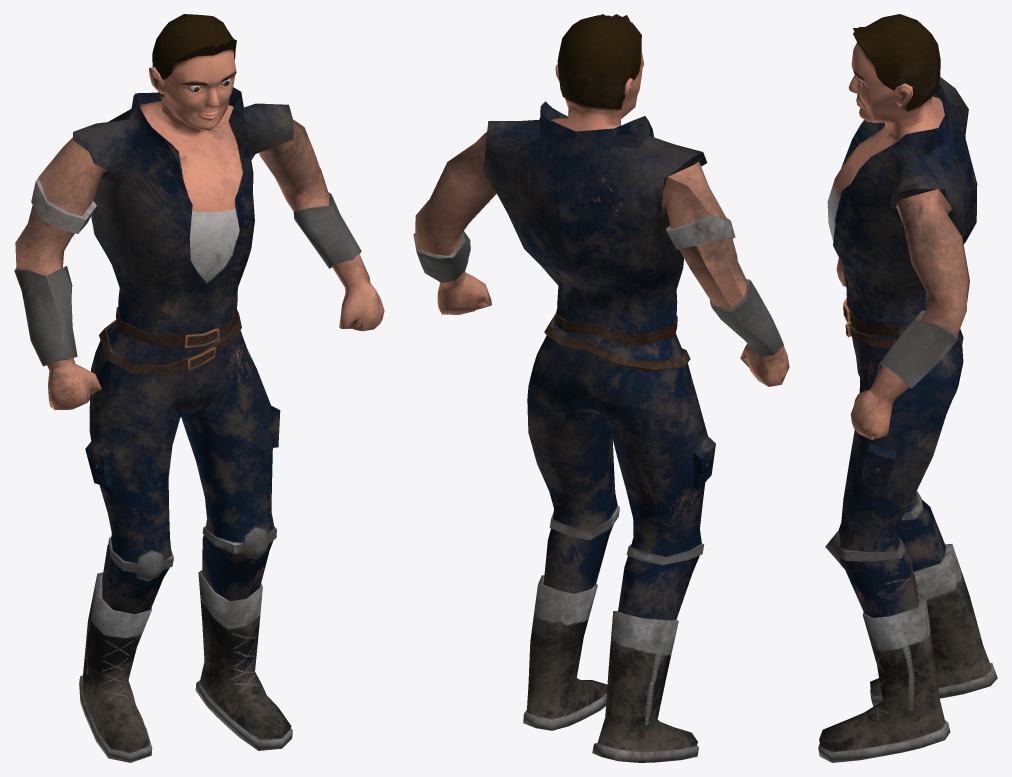
File: Anim_dash_jugador.0016.obj
3 views of the same model, side by side, from view 1: azimuth 30°, elevation 25°; view 2: azimuth 150°, elevation 25°; view 3: azimuth 270°, elevation 25° (orthographic).
Parts seen in each view (by area): view 1: polySurface1; view 2: polySurface1; view 3: polySurface1.
Part boxes in pixels (x1,y1,x2,y2): polySurface1: (14, 14, 384, 762); polySurface1: (413, 14, 789, 762); polySurface1: (818, 14, 997, 762).
Bounding box in the file's own units: 4.8 × 9.68 × 2.2.
